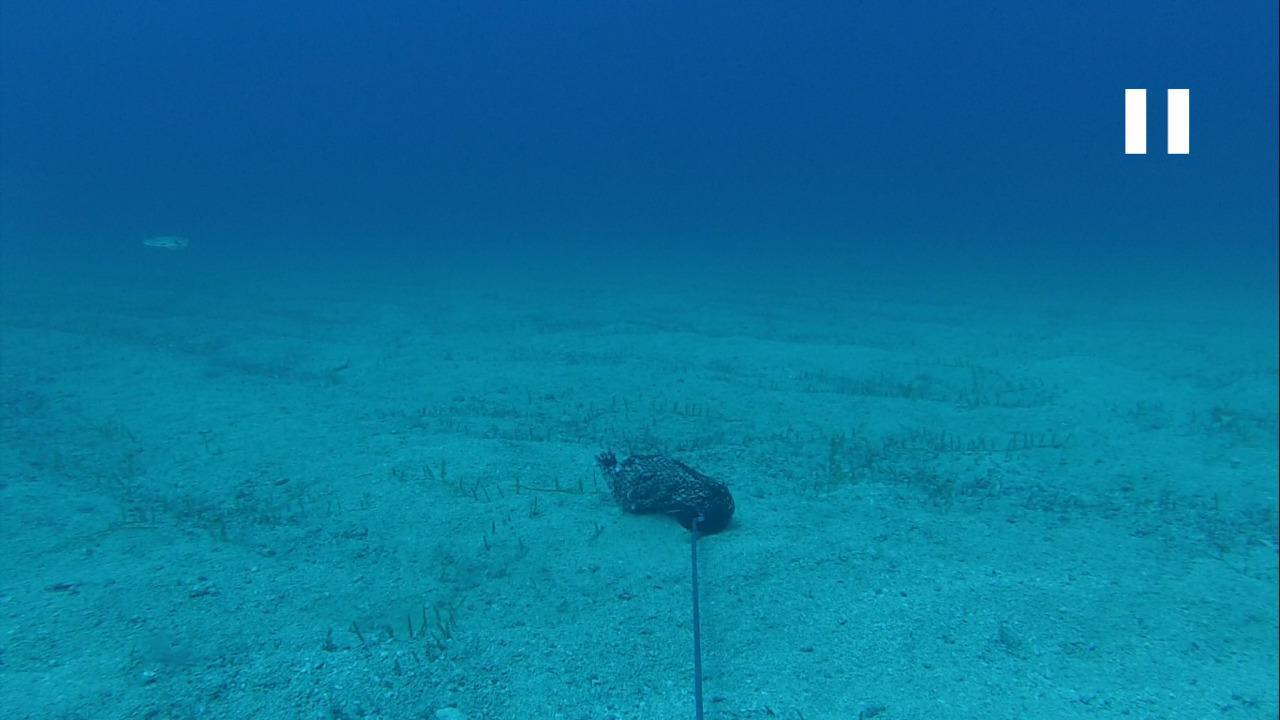dactylopterus: (126, 226, 192, 256)
